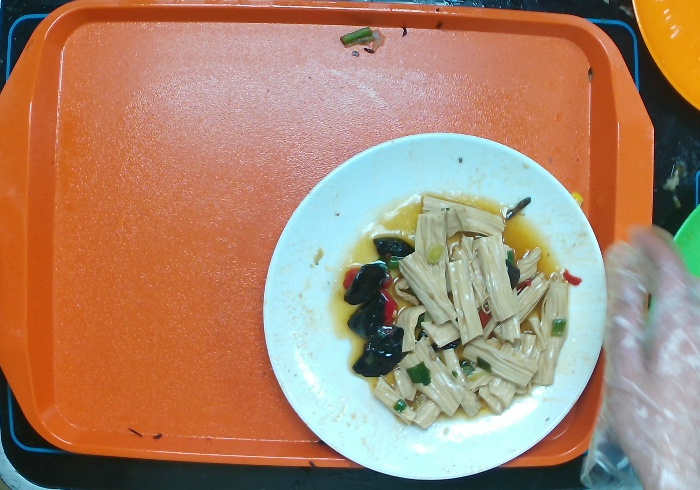HZYJPL-Bai_Se_Yuan_Pan: (262, 131, 608, 482)
